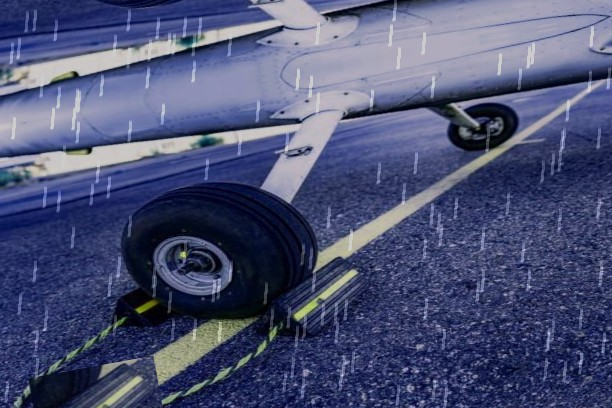chock: (242, 249, 382, 347), (28, 356, 167, 408), (103, 275, 195, 335)
wheel: (110, 164, 330, 338), (443, 95, 526, 156)
